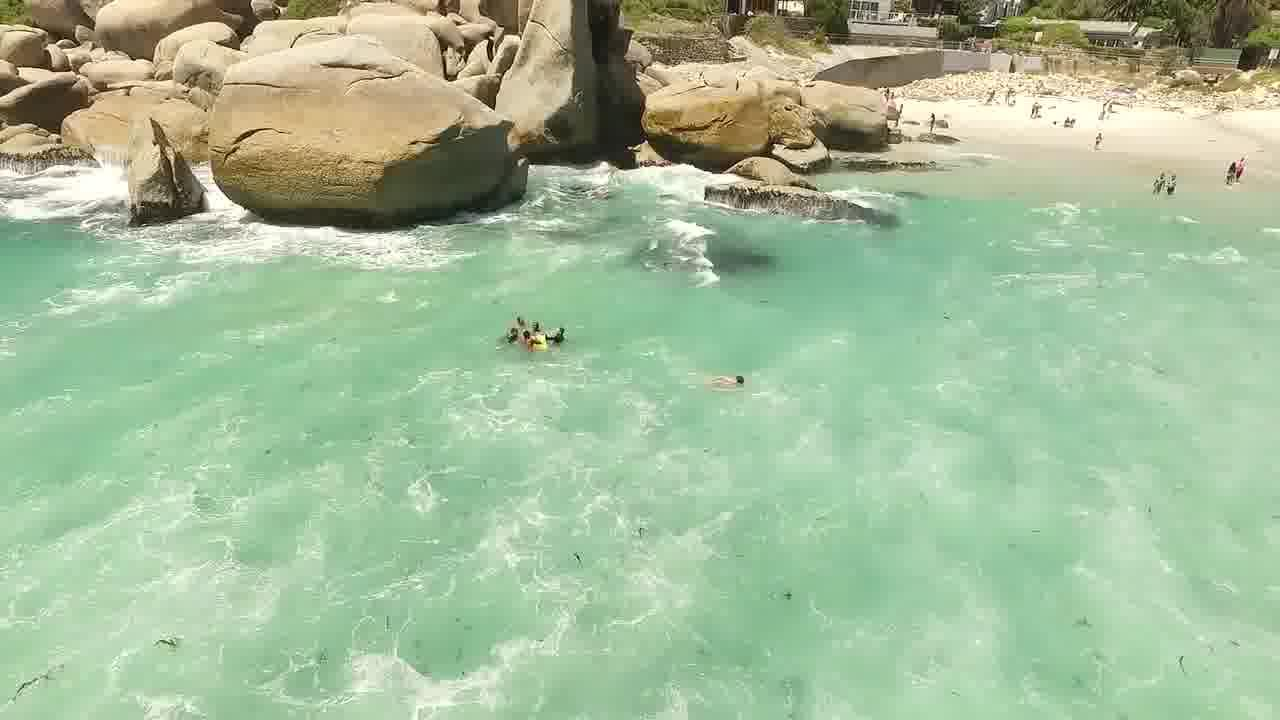swimmer: (495, 312, 572, 365), (1143, 167, 1194, 203), (711, 355, 755, 396), (1210, 151, 1252, 186), (1078, 125, 1112, 149)
